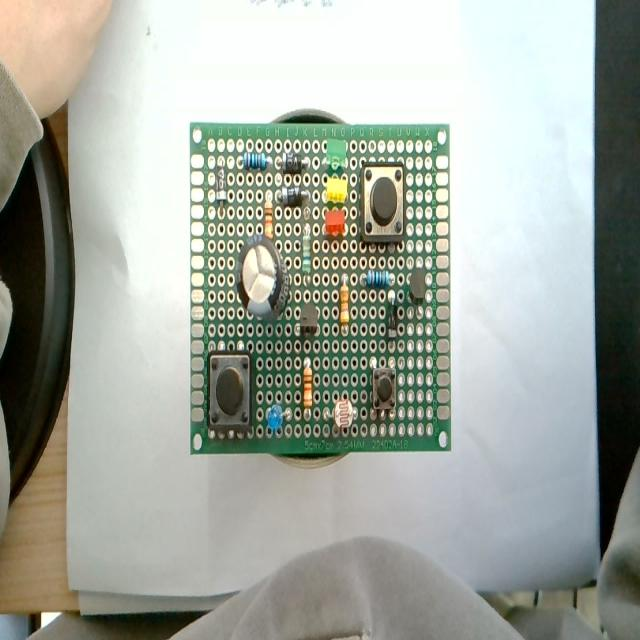Electrolytic capacitor: (235, 233, 293, 337)
cds: (322, 399, 362, 428)
diode: (274, 148, 310, 182), (273, 177, 315, 206), (387, 292, 402, 353)
led: (261, 398, 293, 436), (316, 209, 350, 243), (323, 173, 349, 211)
resistor: (300, 355, 316, 432), (337, 274, 352, 341), (360, 262, 394, 288)
switch: (204, 343, 264, 445), (370, 359, 397, 416)
transistor: (293, 297, 327, 345), (405, 259, 429, 319)
